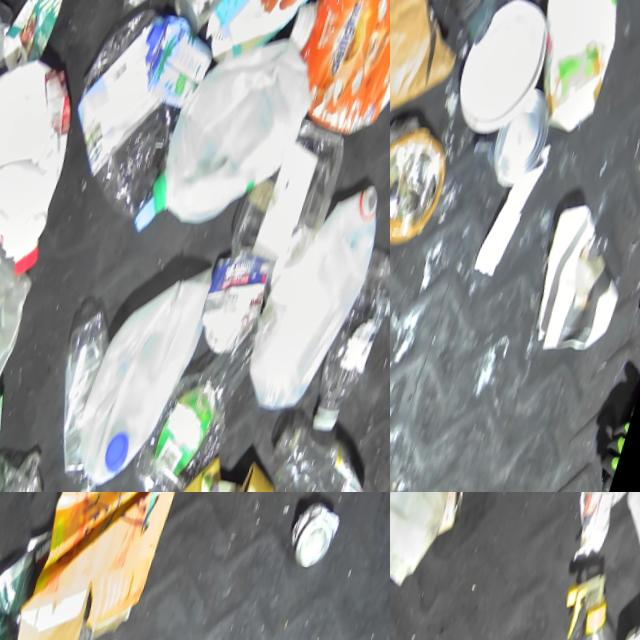can: (482, 86, 564, 206), (280, 492, 352, 591), (163, 0, 256, 50), (109, 0, 197, 28)
milk_jug: (144, 20, 330, 252), (68, 249, 229, 492), (238, 174, 390, 431), (0, 44, 99, 288), (0, 231, 51, 489), (390, 492, 488, 600)
non_white_jug: (196, 0, 347, 89)
plastic_bottle: (42, 0, 217, 244), (27, 301, 157, 492), (310, 250, 390, 446), (249, 419, 390, 492)
